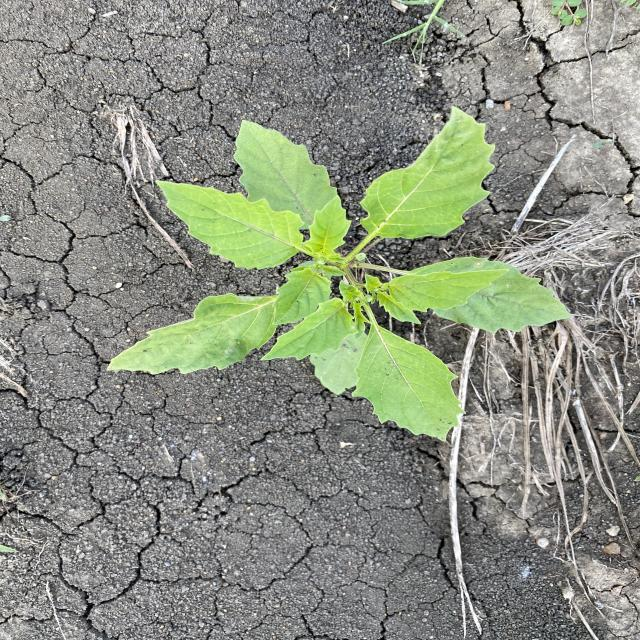CutleafGroundcherry: (104, 104, 578, 445)
SpottedSpurge: (548, 0, 592, 29)
